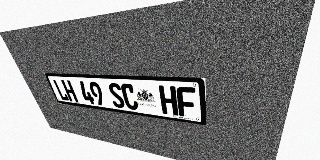4: (77, 81, 95, 105)
9: (88, 81, 106, 106)
C: (120, 83, 139, 110)
F: (176, 86, 196, 118)
H: (158, 85, 178, 116), (61, 80, 79, 102)
L: (52, 79, 70, 101)
S: (107, 83, 126, 109)
